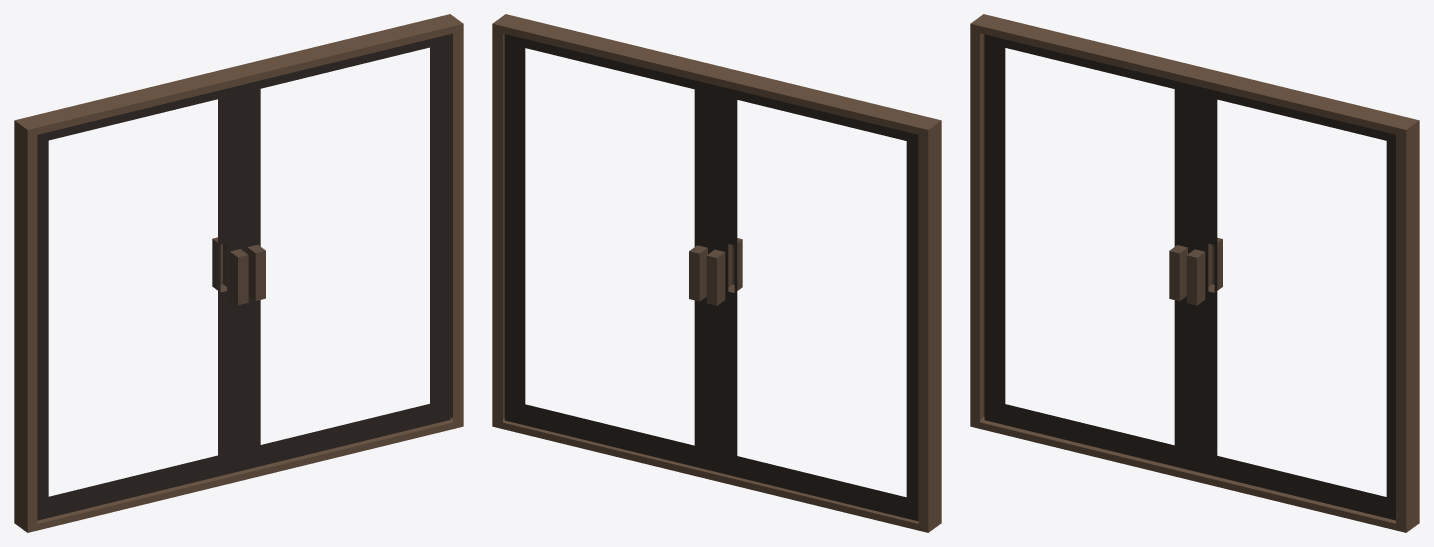
File: door1.glb
3 renders of one model, left to right at view 1: azimuth 30°, elevation 25°; view 2: azimuth 150°, elevation 25°; view 3: azimuth 330°, elevation 25°, orthographic.
Visible parts, largest first — view 1: frame, Cube.033, Cube.034; view 2: frame, Cube.033, Cube.034; view 3: frame, Cube.033, Cube.034.
Part boxes in pixels (box(x1,y1,x2,y2)): frame: box(14, 14, 463, 532); Cube.033: box(37, 84, 248, 520); Cube.034: box(243, 34, 450, 469); frame: box(492, 14, 941, 532); Cube.033: box(706, 84, 918, 521); Cube.034: box(504, 34, 711, 470); frame: box(970, 14, 1419, 532); Cube.033: box(984, 34, 1191, 470); Cube.034: box(1186, 85, 1395, 520).
Bounding box in the file's own units: 2.15 × 1.9 × 0.2202.
